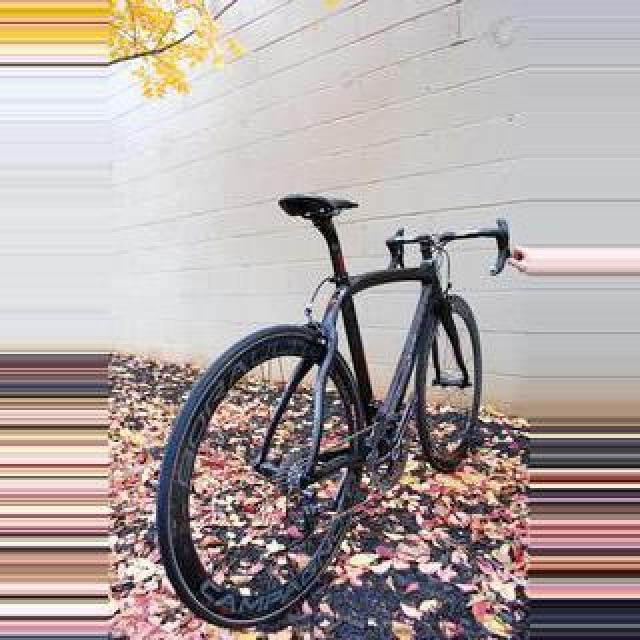Person: (158, 186, 508, 636)
